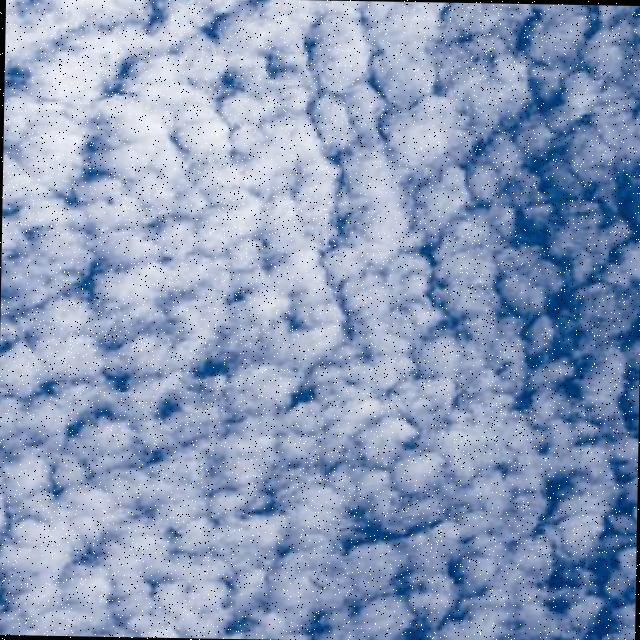Ac: (1, 1, 640, 575)
